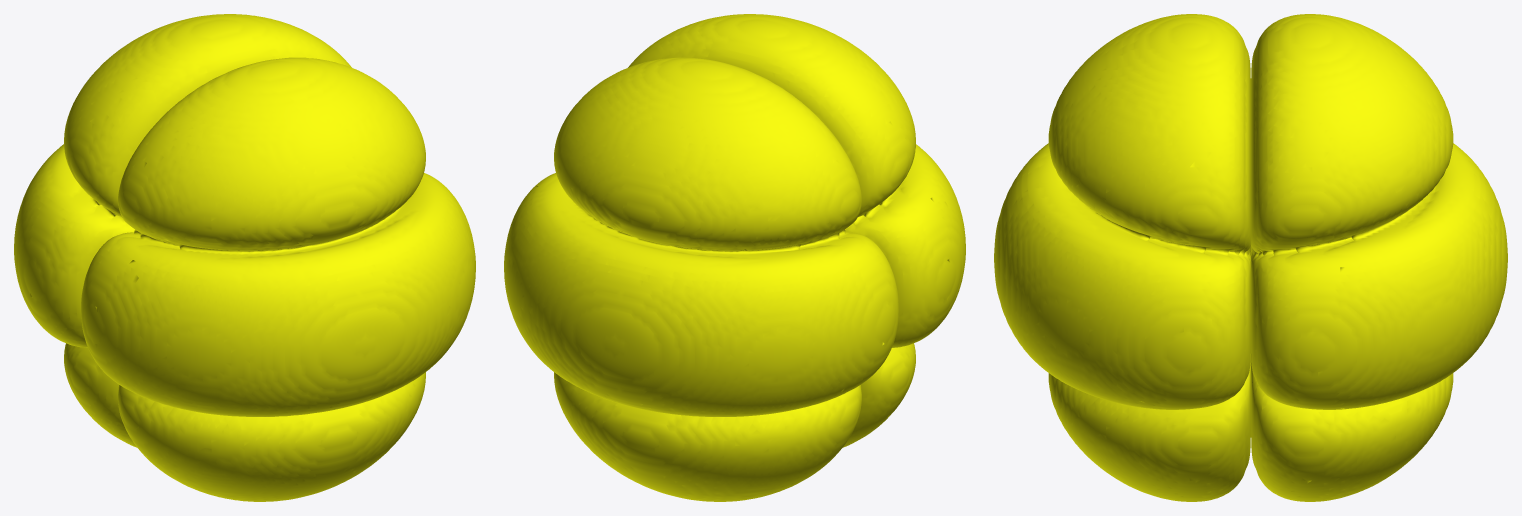
Rendered from orb_n=7_ l=3 _m=-1.fbx.
3 views of the same model, side by side, from view 1: azimuth 30°, elevation 25°; view 2: azimuth 150°, elevation 25°; view 3: azimuth 270°, elevation 25° (orthographic). The views are drawn at different scales.
Parts seen in each view (by area): view 1: orb_n=7_ l=3 _m=-1; view 2: orb_n=7_ l=3 _m=-1; view 3: orb_n=7_ l=3 _m=-1.
Boxes of the visible parts, x1,y1,x2,y2 form: orb_n=7_ l=3 _m=-1: [14, 14, 475, 501]; orb_n=7_ l=3 _m=-1: [504, 14, 965, 501]; orb_n=7_ l=3 _m=-1: [994, 14, 1507, 501].
Size of the model in its own units: 26954 by 29641 by 30736.
